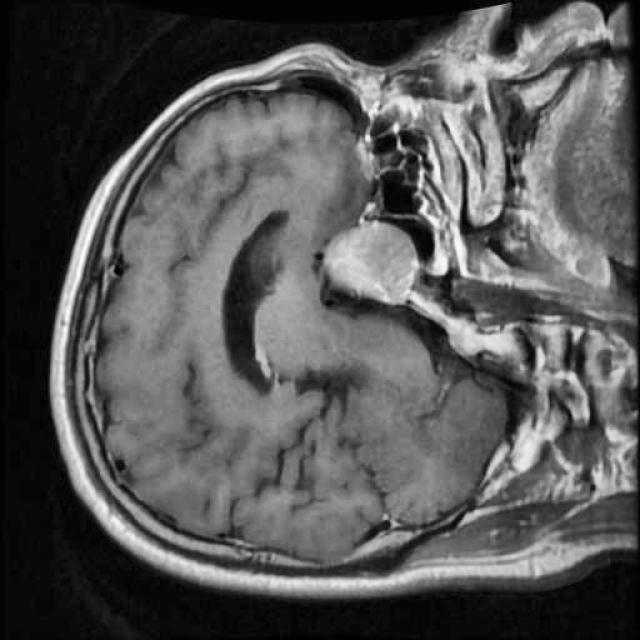Tumor: (315, 205, 431, 316)
